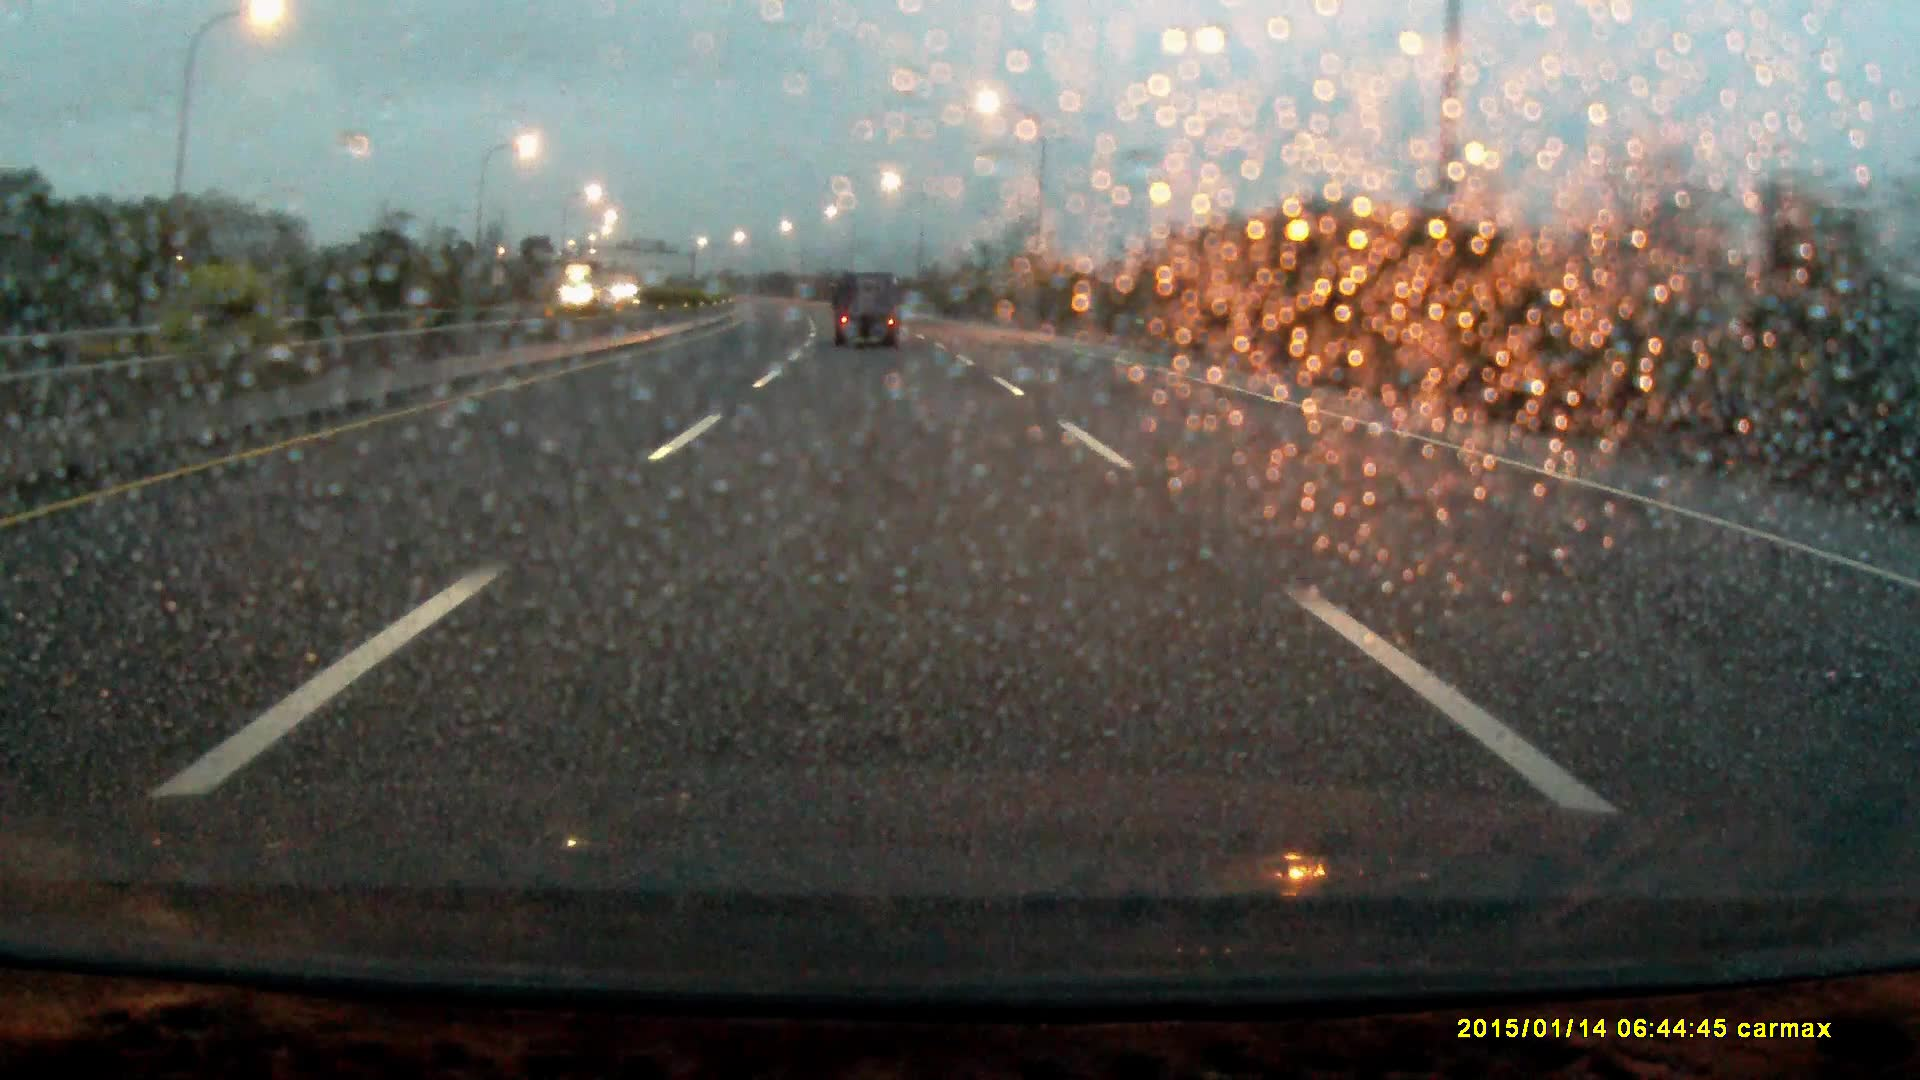vehicle: (832, 276, 902, 353), (562, 266, 630, 320)
